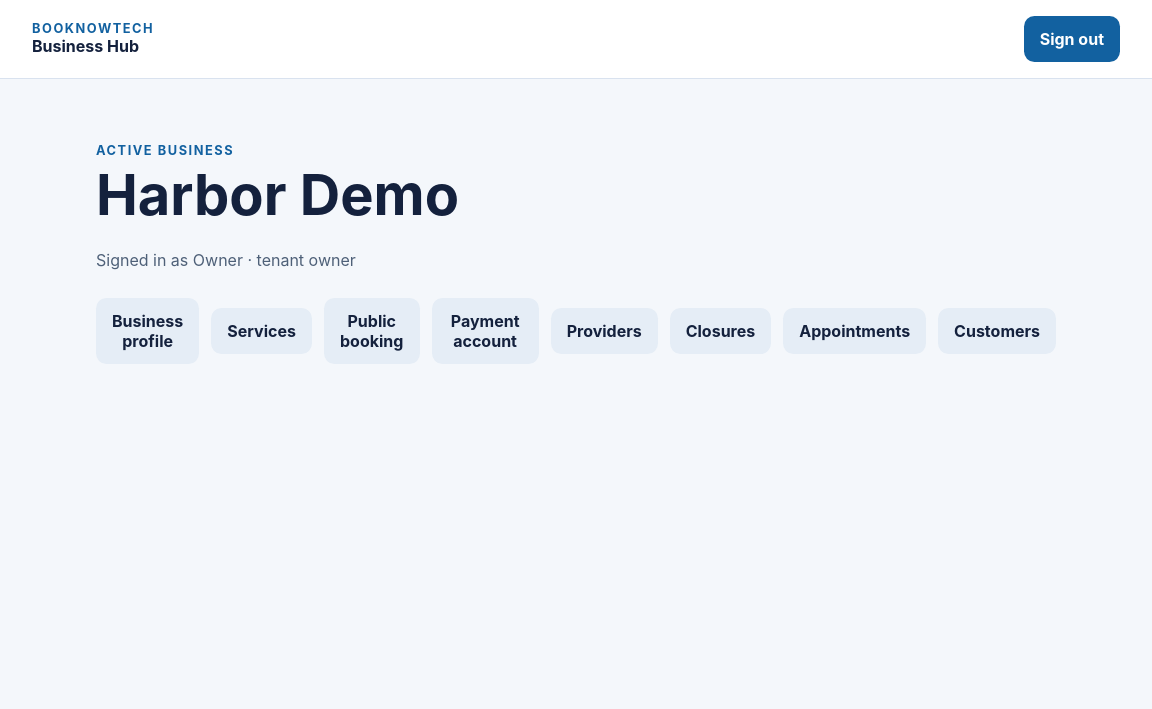
Business Hub › opens the new provider form without treating new as a provider public ID
Click the button "Providers" at (604, 331), box [551,308,658,354]
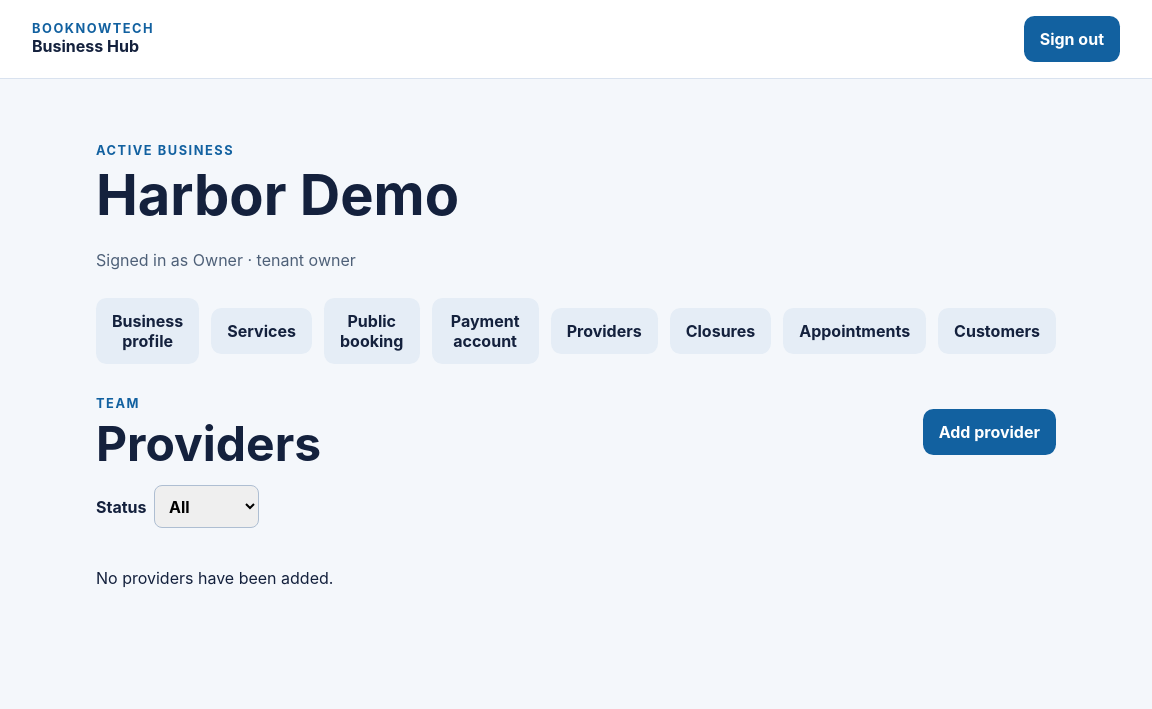
Click the button "Add provider" at (989, 432), box [923,410,1056,455]
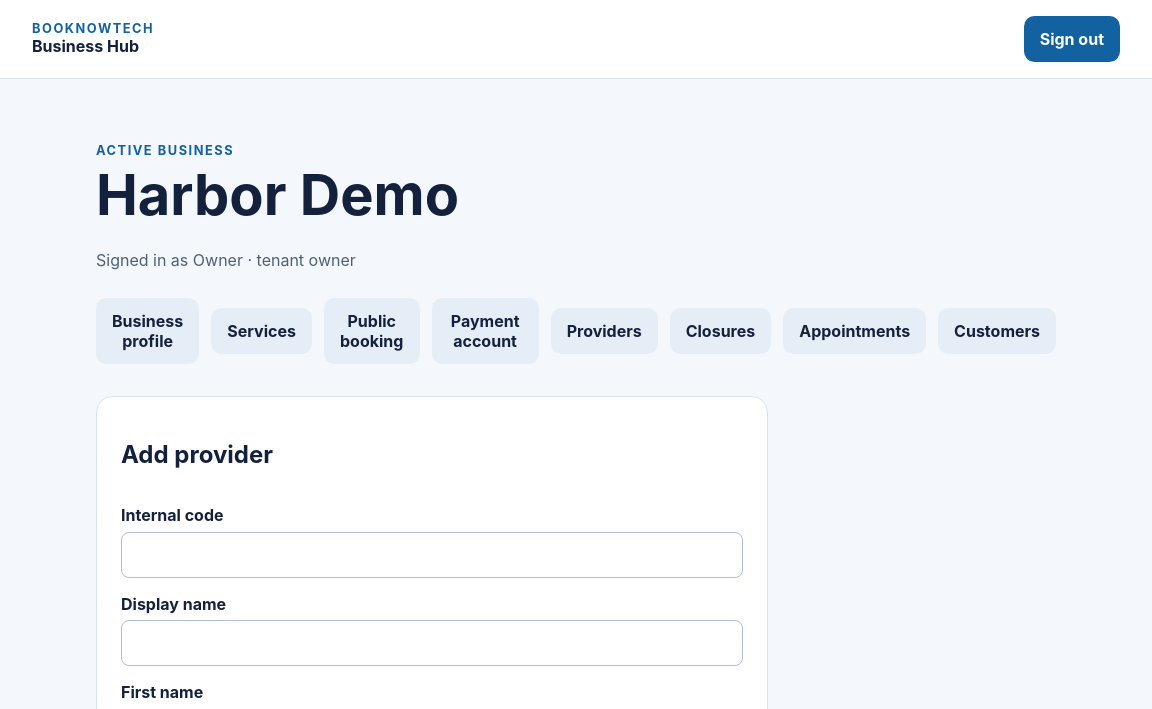
Check: the heading "Add provider" is shown, box [121,440,273,470]
Check: the field labelled "Display name" is shown, box [121,620,743,666]
